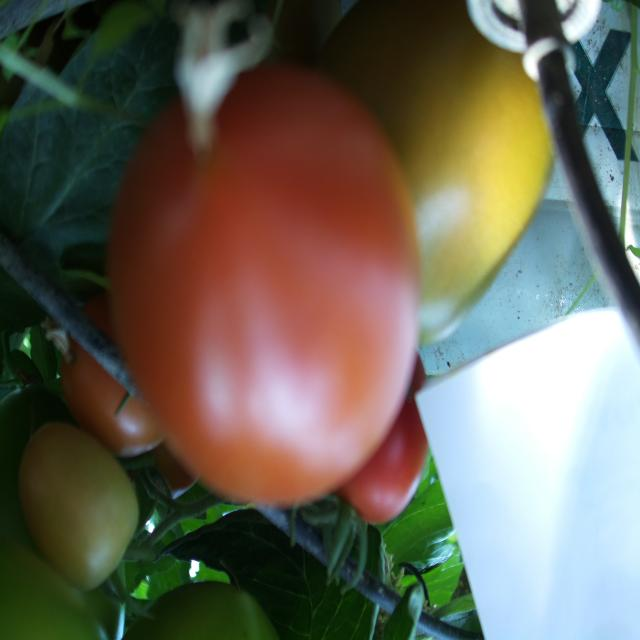sari: (99, 48, 442, 520)
